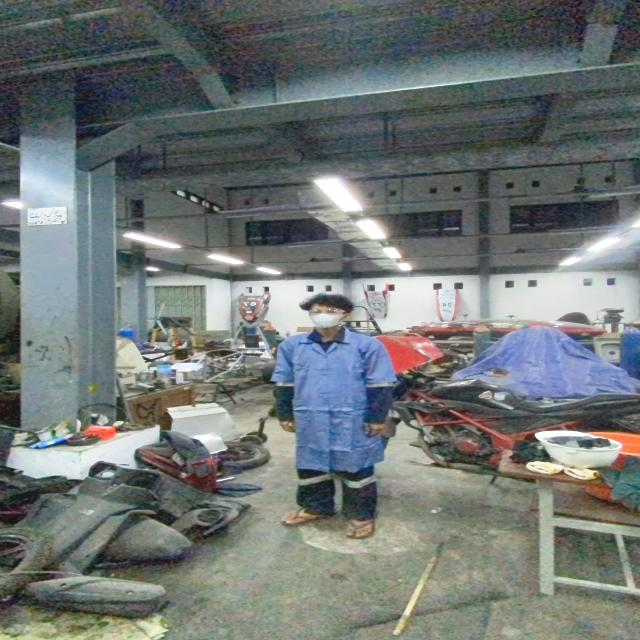face_mask: (306, 305, 349, 327)
glasses: (305, 305, 355, 316)
hand_noglove: (360, 418, 390, 436), (277, 416, 301, 434)
head_nohelmet: (299, 291, 356, 311)
person: (263, 292, 403, 544)
